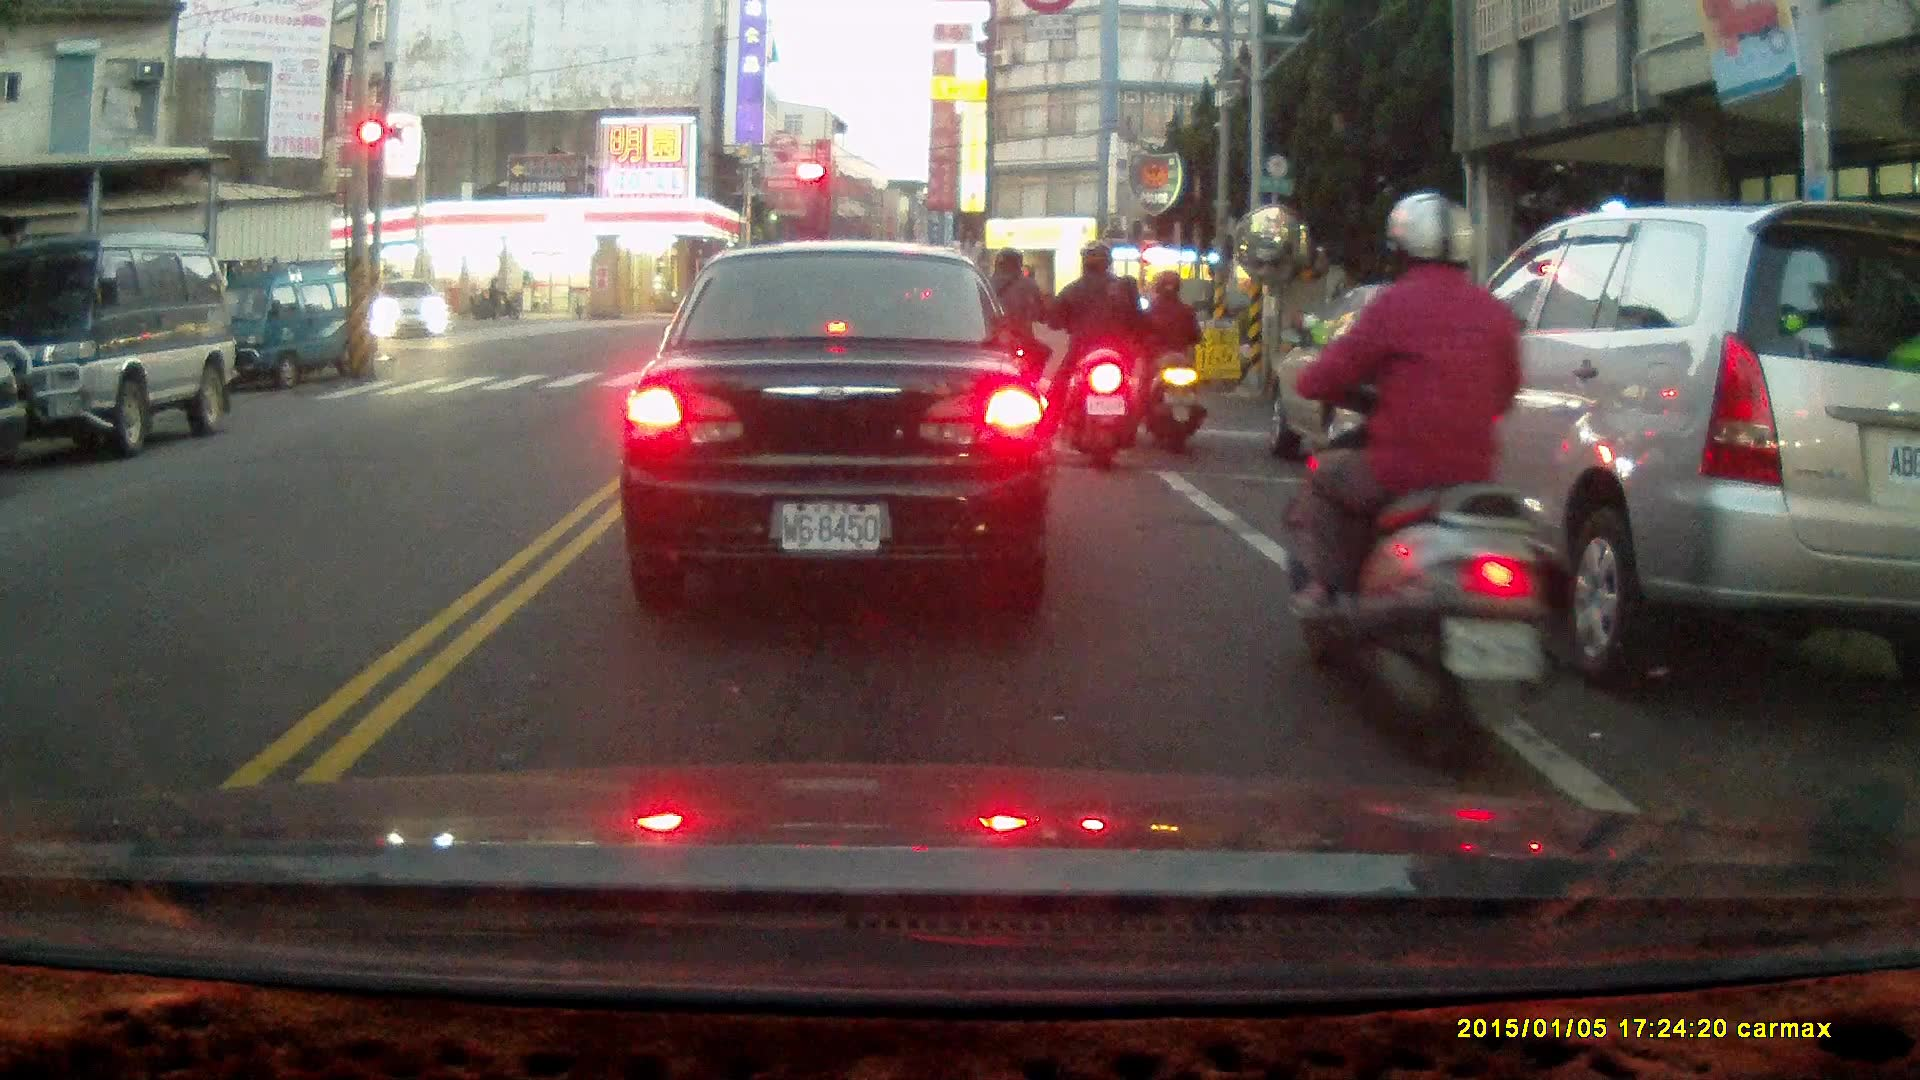rider: (1282, 188, 1556, 782), (1048, 242, 1141, 468), (960, 240, 1057, 431), (1134, 269, 1204, 450), (473, 278, 517, 318)
vehicle: (1388, 203, 1916, 697), (617, 243, 1061, 606), (1, 234, 239, 458), (193, 256, 379, 393), (372, 277, 451, 343)
